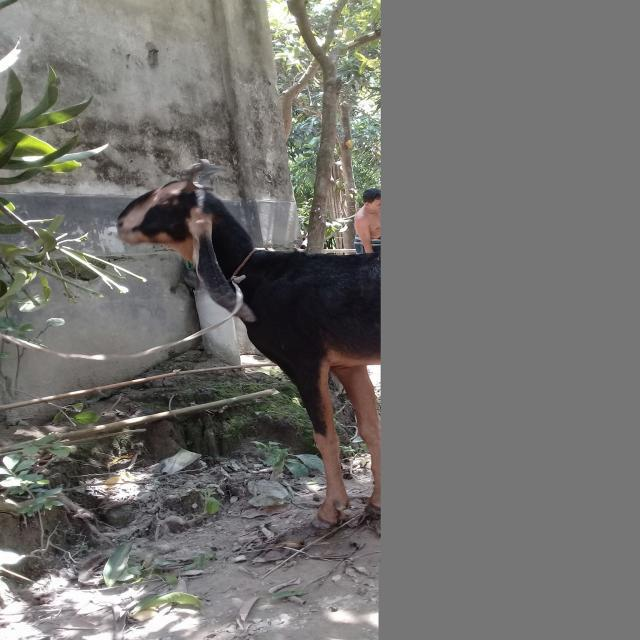Goat: (116, 157, 383, 528)
